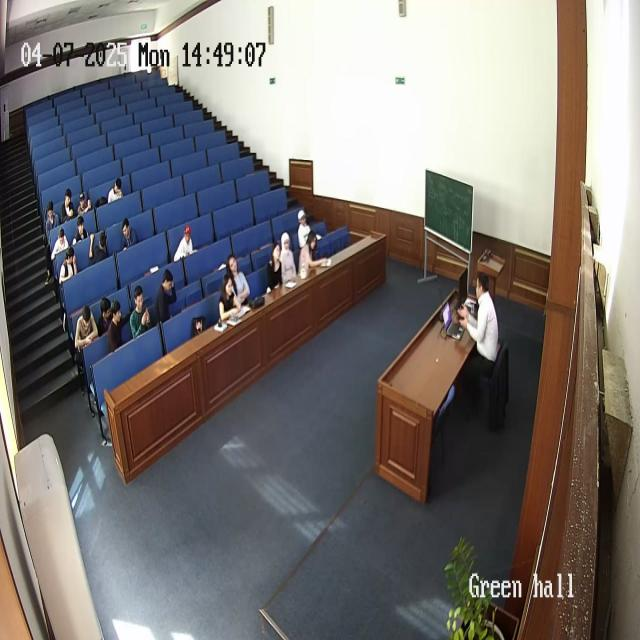person: (459, 273, 500, 386), (58, 246, 78, 324), (154, 268, 178, 326), (74, 302, 98, 358), (298, 230, 326, 276), (227, 252, 251, 305), (130, 284, 152, 340), (218, 274, 242, 324), (50, 225, 70, 285), (105, 299, 126, 353), (265, 241, 284, 293), (173, 223, 197, 264), (296, 209, 320, 248), (279, 232, 297, 283), (88, 228, 110, 266), (96, 298, 114, 340), (45, 200, 61, 244), (121, 217, 139, 251), (74, 216, 90, 250), (61, 188, 77, 222), (77, 191, 92, 219), (107, 178, 123, 204)
